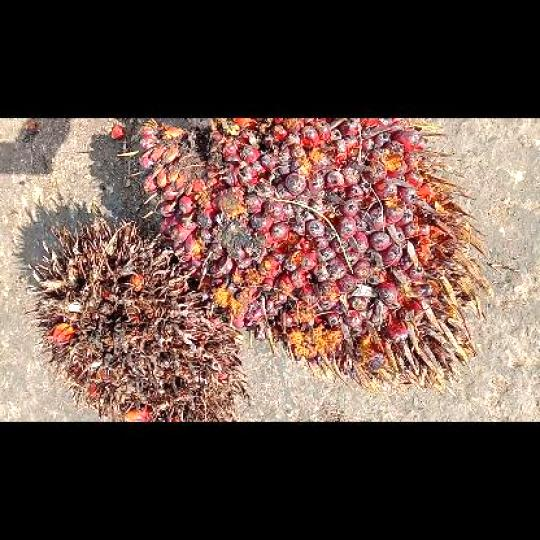masak: (138, 117, 488, 389)
terlalu masak: (27, 216, 248, 420)
